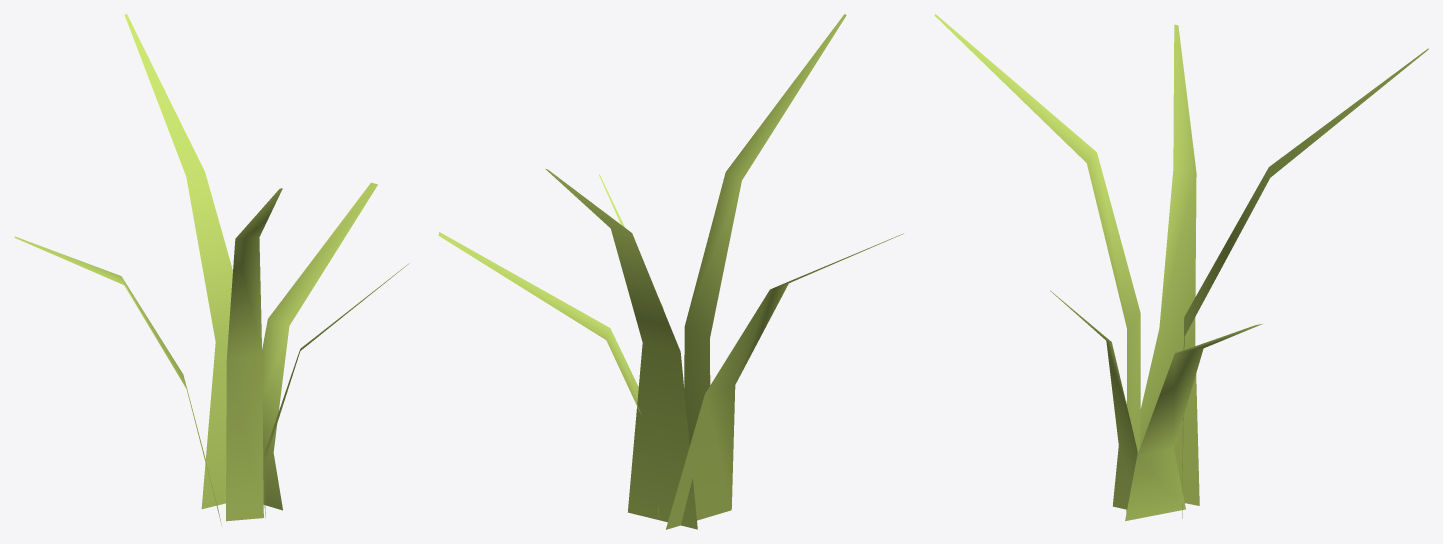
File: Grass_High.fbx
The picture shows the model from 3 angles, left to right: view 1: azimuth 30°, elevation 25°; view 2: azimuth 150°, elevation 25°; view 3: azimuth 270°, elevation 25°; orthographic projection. The views are drawn at different scales.
Parts seen in each view (by area): view 1: Plane; view 2: Plane; view 3: Plane.
Part boxes in pixels (x1=…): Plane: x1=14, y1=14, x2=409, y2=525; Plane: x1=438, y1=14, x2=903, y2=529; Plane: x1=934, y1=14, x2=1428, y2=521.
Bounding box in the file's own units: 48.66 × 47.5 × 45.96.
